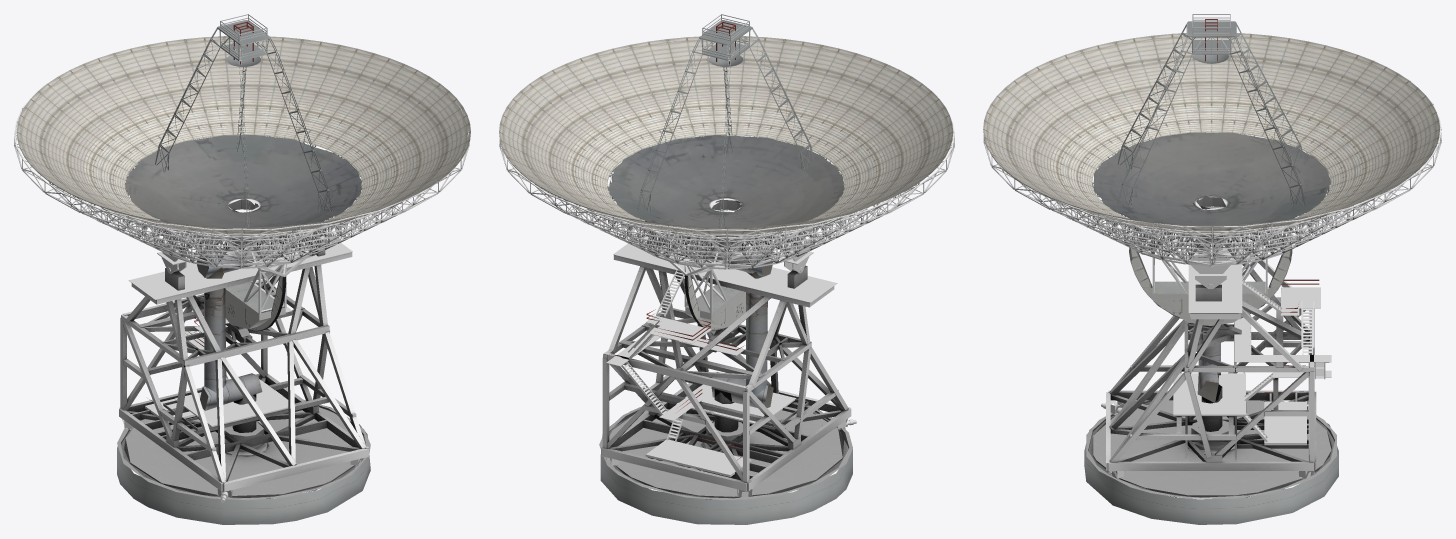
File: dsn34.glb
The picture shows the model from 3 angles, left to right: view 1: azimuth 30°, elevation 25°; view 2: azimuth 150°, elevation 25°; view 3: azimuth 270°, elevation 25°; orthographic projection.
Parts seen in each view (by area): view 1: dish, azimuth, truss_dish, base; view 2: dish, azimuth, truss_dish, base; view 3: dish, azimuth, base, truss_dish.
Boxes of the visible parts, <box> form: dish: <box>16,36,470,236</box>; azimuth: <box>117,14,370,524</box>; truss_dish: <box>14,84,469,268</box>; base: <box>117,397,370,500</box>; dish: <box>499,36,953,236</box>; azimuth: <box>600,14,856,524</box>; truss_dish: <box>499,41,954,269</box>; base: <box>599,396,852,500</box>; dish: <box>983,33,1439,233</box>; azimuth: <box>1084,14,1338,524</box>; base: <box>1086,400,1336,498</box>; truss_dish: <box>983,60,1441,265</box>.
Bounding box in the file's own units: 34.02 × 36.79 × 33.97.
Materials: 6 (5 with a texture image).
